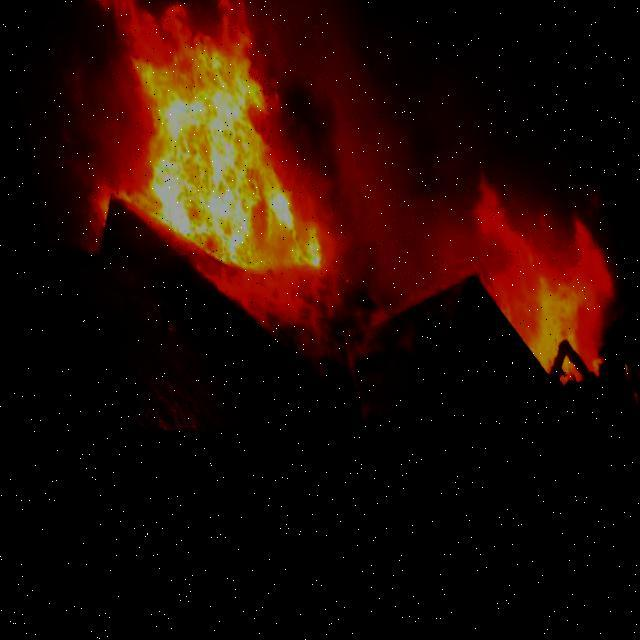Fire: (68, 0, 324, 294), (446, 175, 612, 398)
